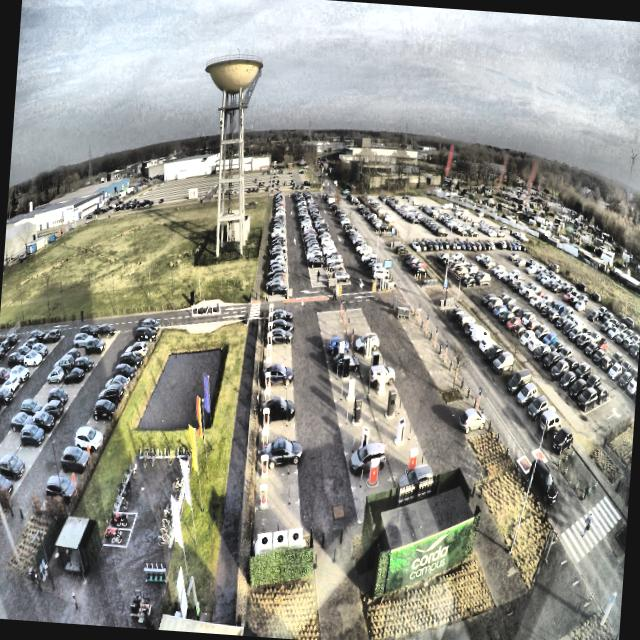cabinet: (257, 524, 302, 546)
car: (261, 434, 305, 462), (260, 392, 296, 420), (260, 360, 294, 381), (266, 323, 294, 341), (268, 313, 294, 330), (270, 305, 292, 320)
parking: (254, 498, 300, 537), (255, 469, 298, 503), (256, 444, 296, 472), (258, 420, 296, 447), (259, 400, 294, 425), (262, 364, 292, 386), (261, 384, 293, 402), (263, 353, 292, 367), (263, 342, 291, 355), (264, 332, 290, 345), (265, 321, 290, 334), (265, 311, 290, 324)
supercharger: (259, 480, 267, 503), (260, 451, 268, 470), (262, 404, 269, 425), (261, 426, 268, 444), (265, 354, 271, 366), (264, 385, 269, 399), (265, 368, 270, 382), (266, 341, 271, 353), (267, 329, 272, 340), (268, 300, 273, 311), (268, 309, 273, 317), (268, 319, 272, 328)
